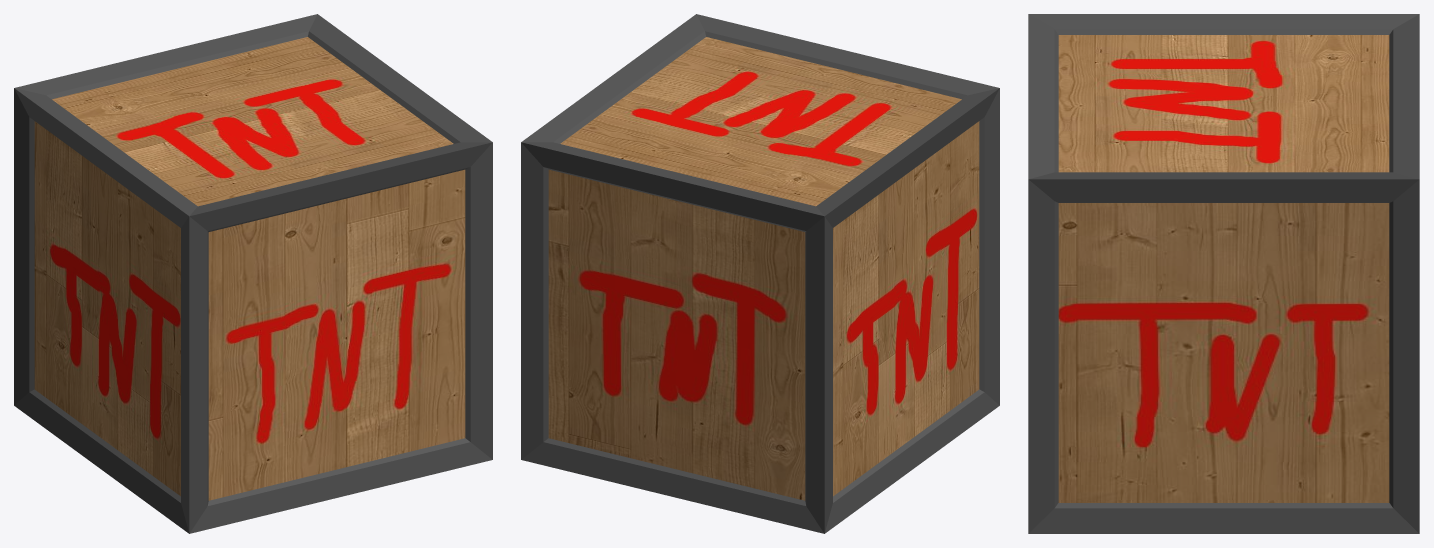
Rendered from caja_1.glb.
3 views of the same model, side by side, from view 1: azimuth 30°, elevation 25°; view 2: azimuth 150°, elevation 25°; view 3: azimuth 270°, elevation 25° (orthographic). The views are drawn at different scales.
Visible parts, largest first — view 1: Cube; view 2: Cube; view 3: Cube.
Part boxes in pixels (bbox=[...]): Cube: bbox=[14, 14, 492, 533]; Cube: bbox=[521, 14, 999, 533]; Cube: bbox=[1028, 14, 1419, 533].
Bounding box in the file's own units: 2 × 2 × 2.
Materials: 2 (1 with a texture image).
